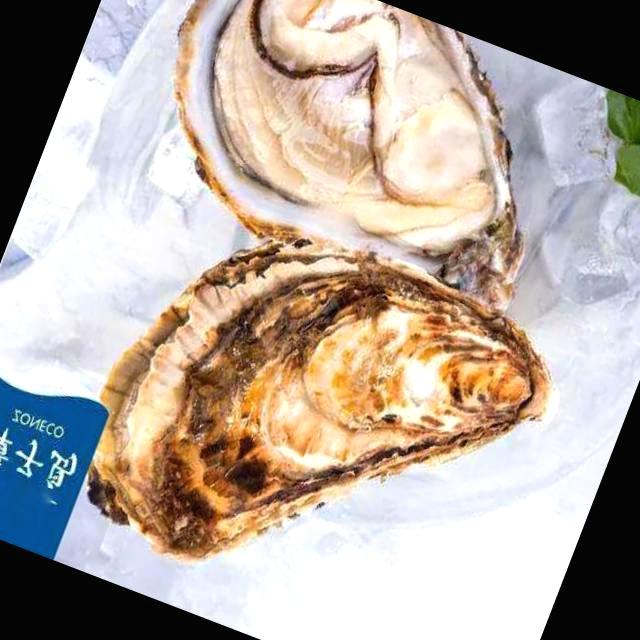Oyster-Closed: (88, 241, 551, 561)
Oyster-Open: (173, 0, 523, 314)
